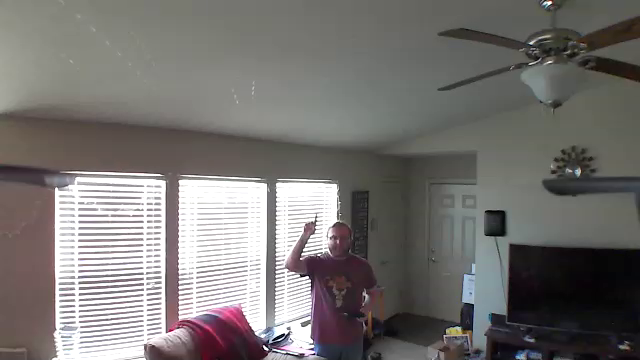up: (300, 210, 320, 238)
